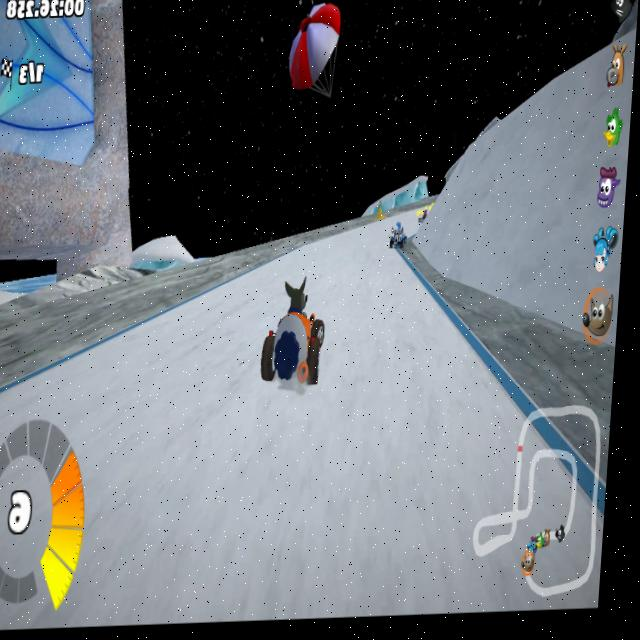enemy_kart: (386, 225, 409, 252)
obstacle: (371, 202, 392, 223)
player_kart: (257, 276, 331, 392)
track: (0, 391, 323, 629), (308, 256, 406, 624), (382, 313, 446, 619), (428, 409, 517, 616), (46, 356, 260, 398), (505, 518, 601, 608), (511, 435, 571, 521), (73, 333, 260, 359), (165, 300, 263, 334), (440, 357, 487, 413), (331, 228, 387, 256), (215, 269, 264, 298), (298, 237, 332, 272), (267, 250, 298, 277), (393, 207, 416, 224)
